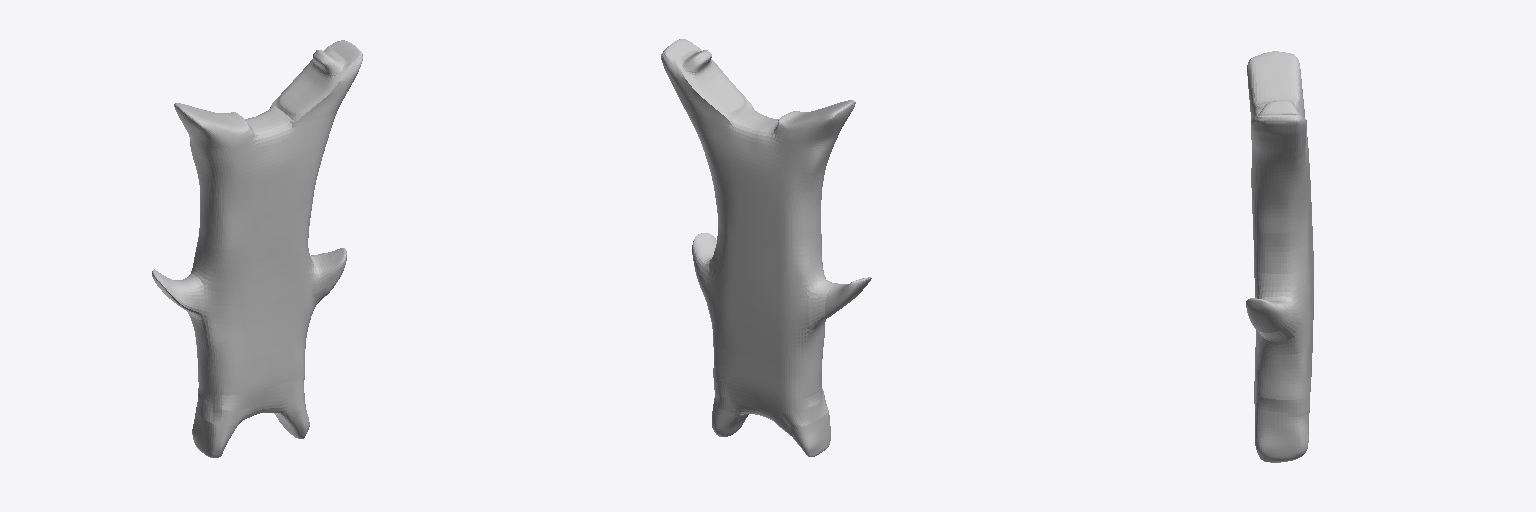
The model's file is korok22.obj.
The picture shows the model from 3 angles: view 1: azimuth 30°, elevation 25°; view 2: azimuth 150°, elevation 25°; view 3: azimuth 270°, elevation 25°; orthographic projection.
Parts seen in each view (by area): view 1: Plane; view 2: Plane; view 3: Plane.
Part boxes in pixels (x1,y1,x2,y2): Plane: (152,40,362,457); Plane: (661,39,871,456); Plane: (1246,51,1313,462).
Bounding box in the file's own units: 1.01 × 1.82 × 0.3007.